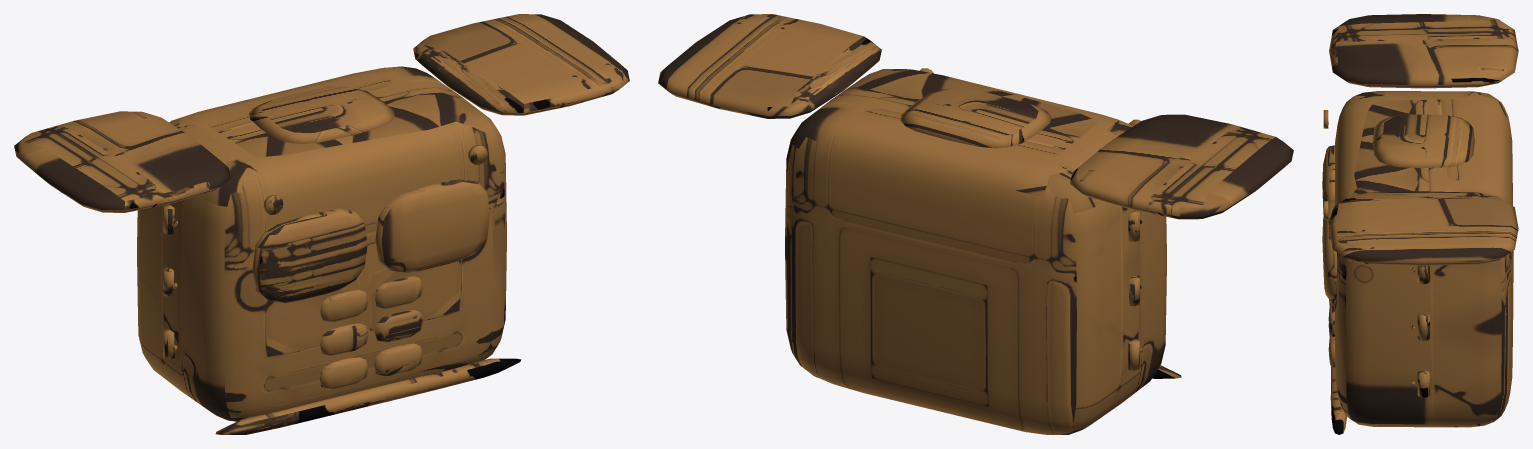
Rendered from Atalanta_Coraza.fbx.
The picture shows the model from 3 angles, left to right: view 1: azimuth 30°, elevation 25°; view 2: azimuth 150°, elevation 25°; view 3: azimuth 270°, elevation 25°; orthographic projection. The views are drawn at different scales.
Parts seen in each view (by area): view 1: Atalanta_Coraza; view 2: Atalanta_Coraza; view 3: Atalanta_Coraza.
Part boxes in pixels (x1,y1,x2,y2): Atalanta_Coraza: (14, 14, 629, 434); Atalanta_Coraza: (658, 14, 1293, 434); Atalanta_Coraza: (1322, 14, 1518, 434).
Bounding box in the file's own units: 3.94 × 1.83 × 1.33.
